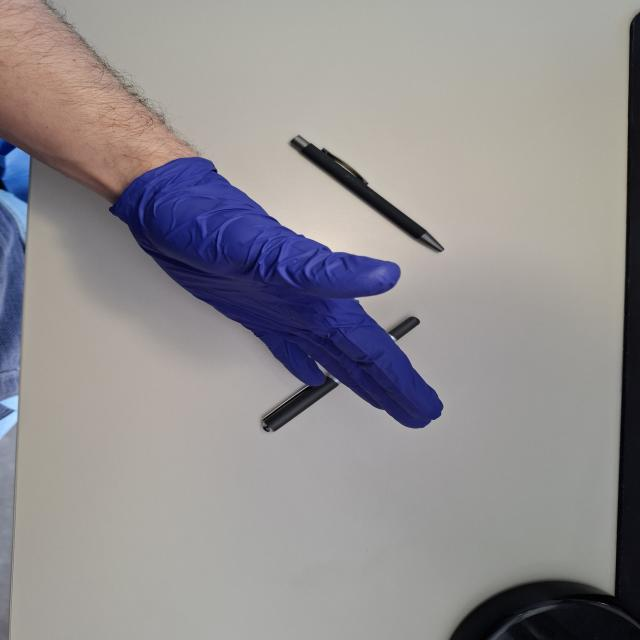glove_on: (103, 145, 452, 433)
